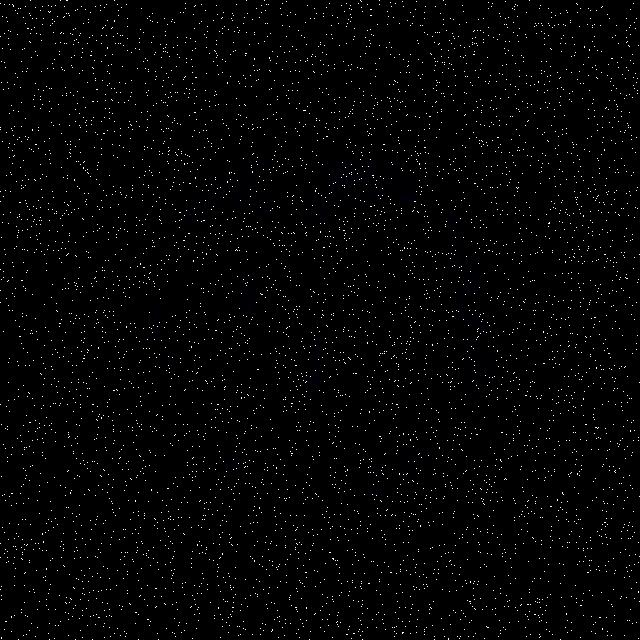Ograniczenie predkosci do 120: (19, 20, 638, 640)
